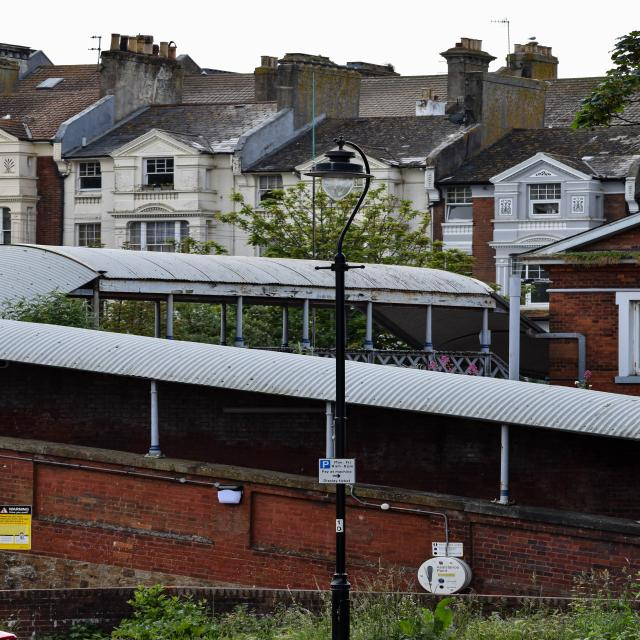Street Light: (309, 132, 375, 640)
